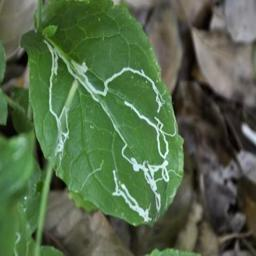liriomyza: (41, 38, 176, 223), (13, 230, 21, 256)
